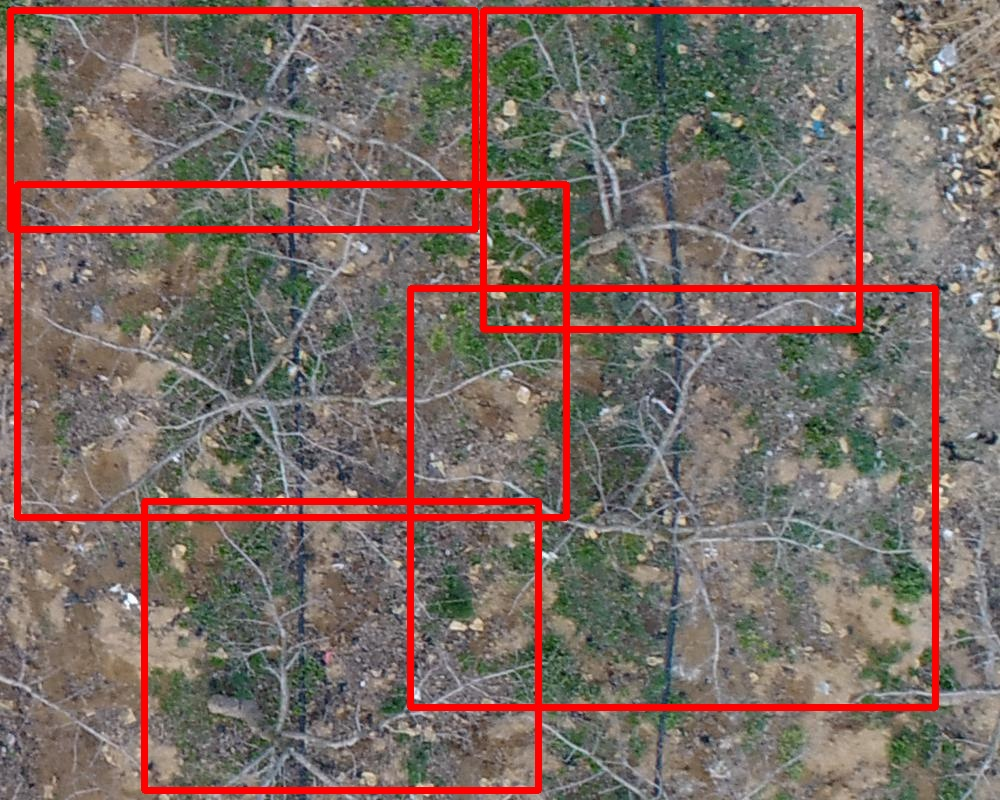apple: (410, 288, 935, 707), (17, 184, 566, 517), (483, 10, 859, 329), (144, 501, 538, 790), (10, 10, 475, 229)
